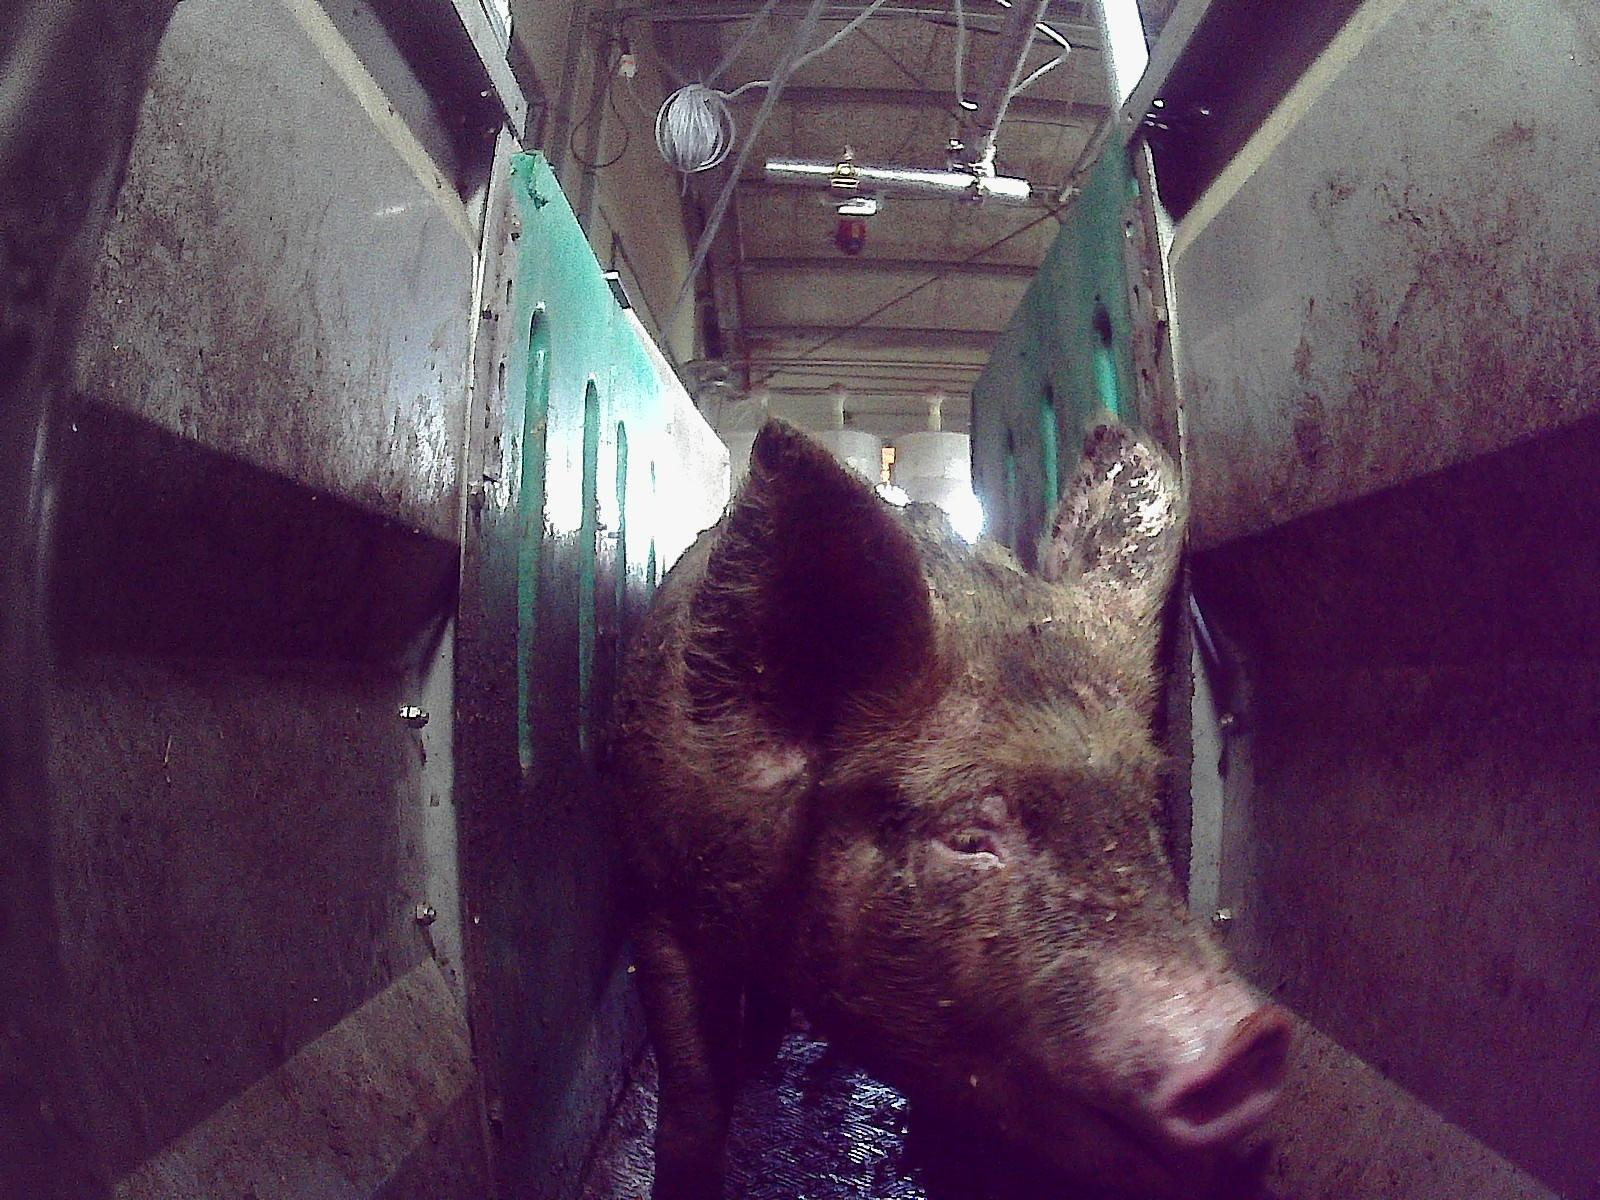Face: (763, 544, 1294, 1198)
